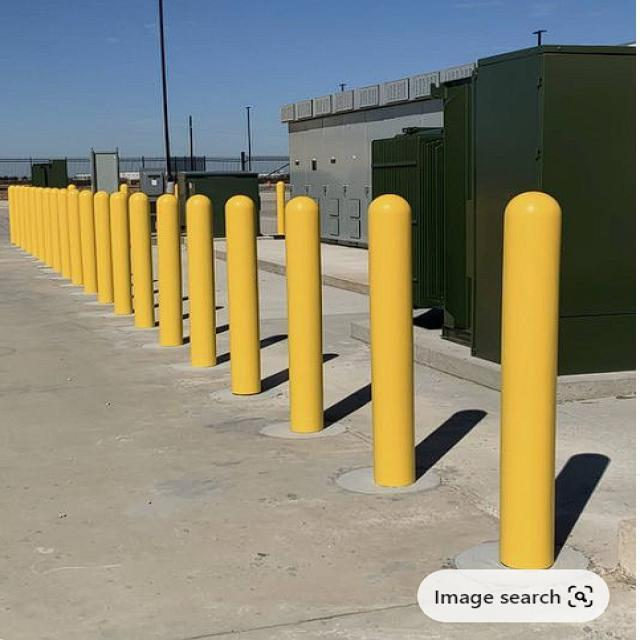Bollard: (494, 188, 569, 566), (366, 192, 419, 492), (282, 192, 332, 430), (224, 194, 264, 398), (186, 194, 216, 370), (154, 192, 184, 354), (128, 191, 154, 333), (108, 191, 130, 313), (79, 189, 95, 293), (95, 188, 108, 304)
